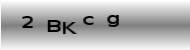2: (21, 15, 34, 29)
B: (45, 19, 61, 32)
K: (61, 20, 77, 35)
c: (82, 15, 94, 25)
g: (106, 13, 119, 27)
